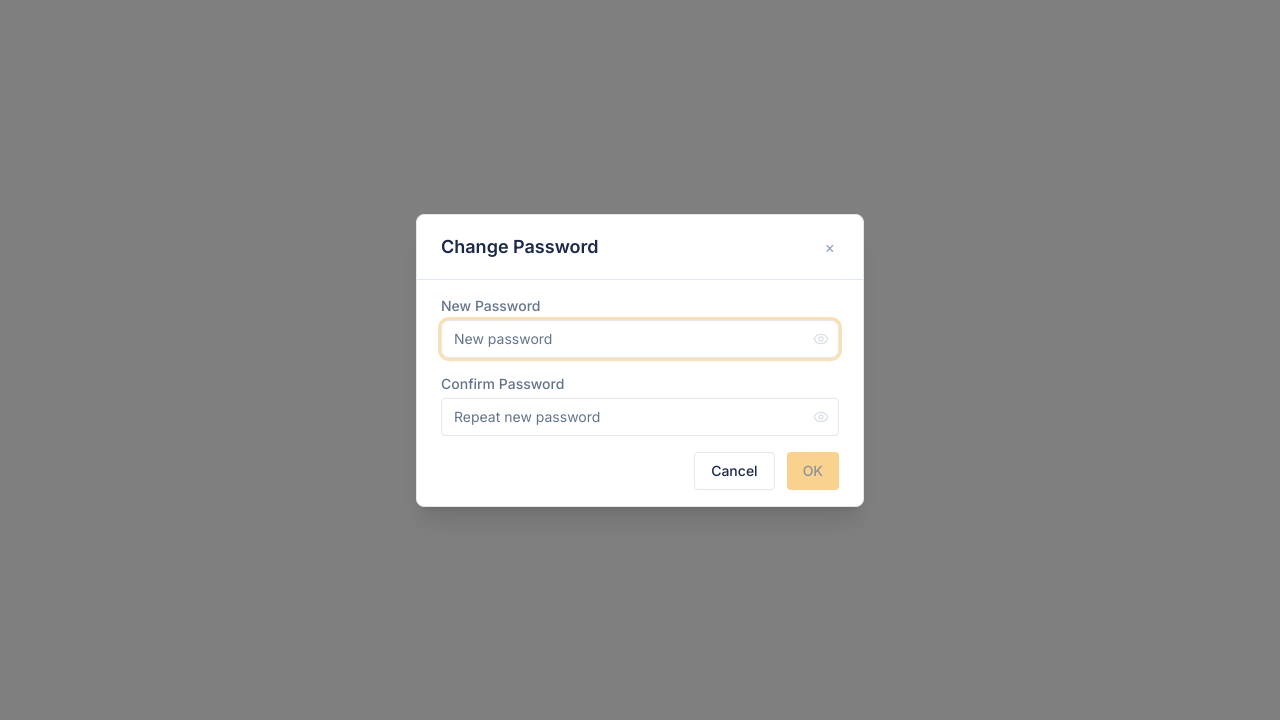
Test case: TopBarChangePasswordModal › sends matching passwords, shows "Password updated", and closes
This screenshot has width=1280, height=720.
Type "s3cret!" into the password field labelled "New Password". click: [640, 338]
box: [441,320,839,358]
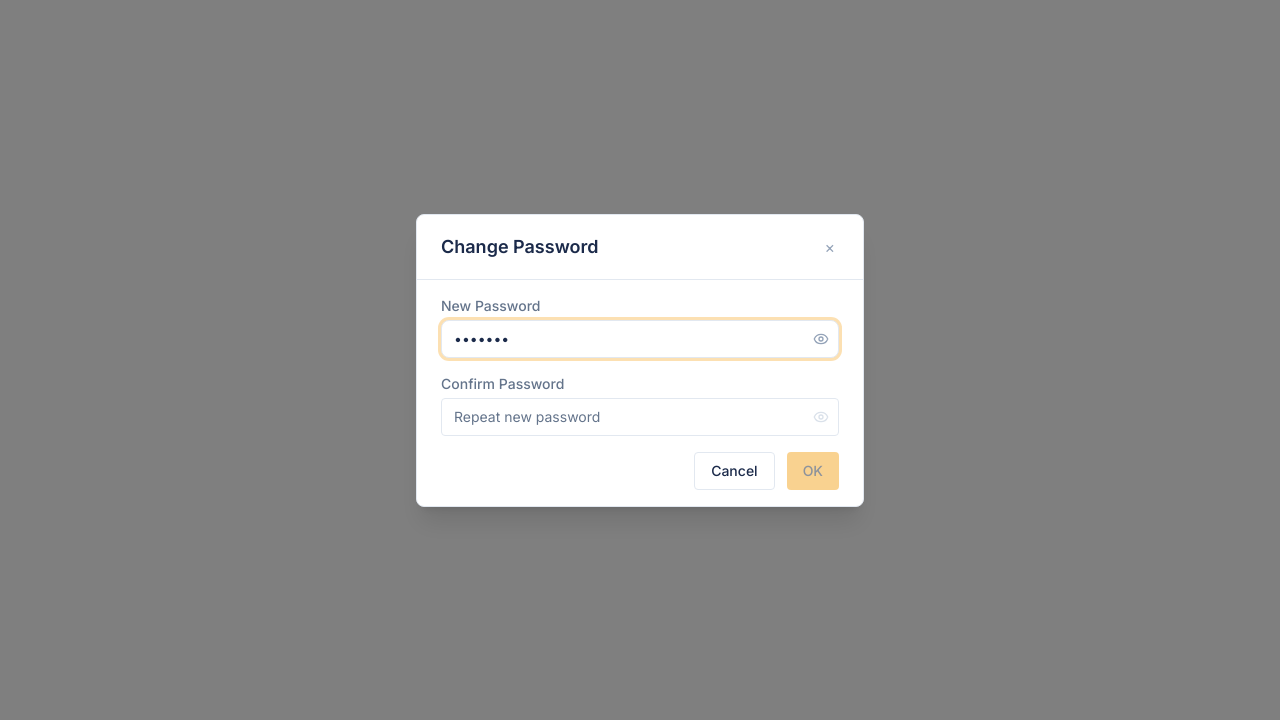
Type "s3cret!" into the password field labelled "Confirm Password". click: [640, 416]
box: [441,398,839,436]
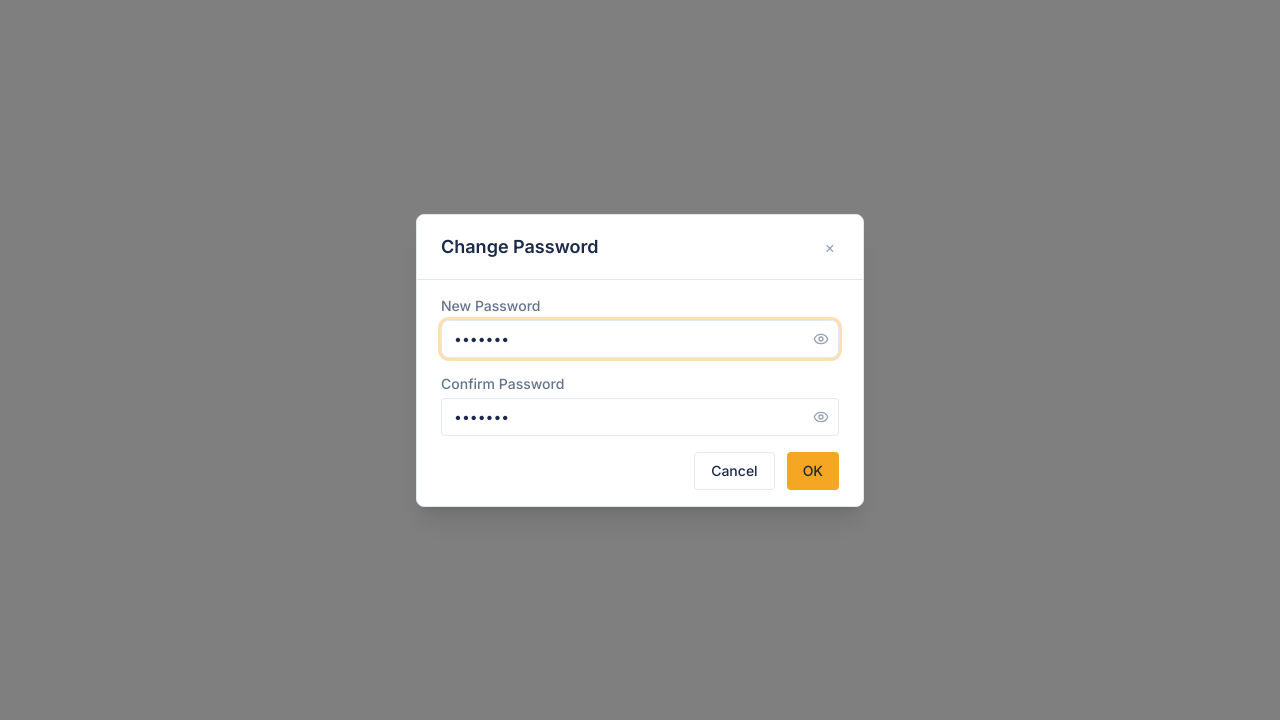
Click the button "OK". click: [813, 470]
box: [787,452,839,490]
Wait 1000 ms
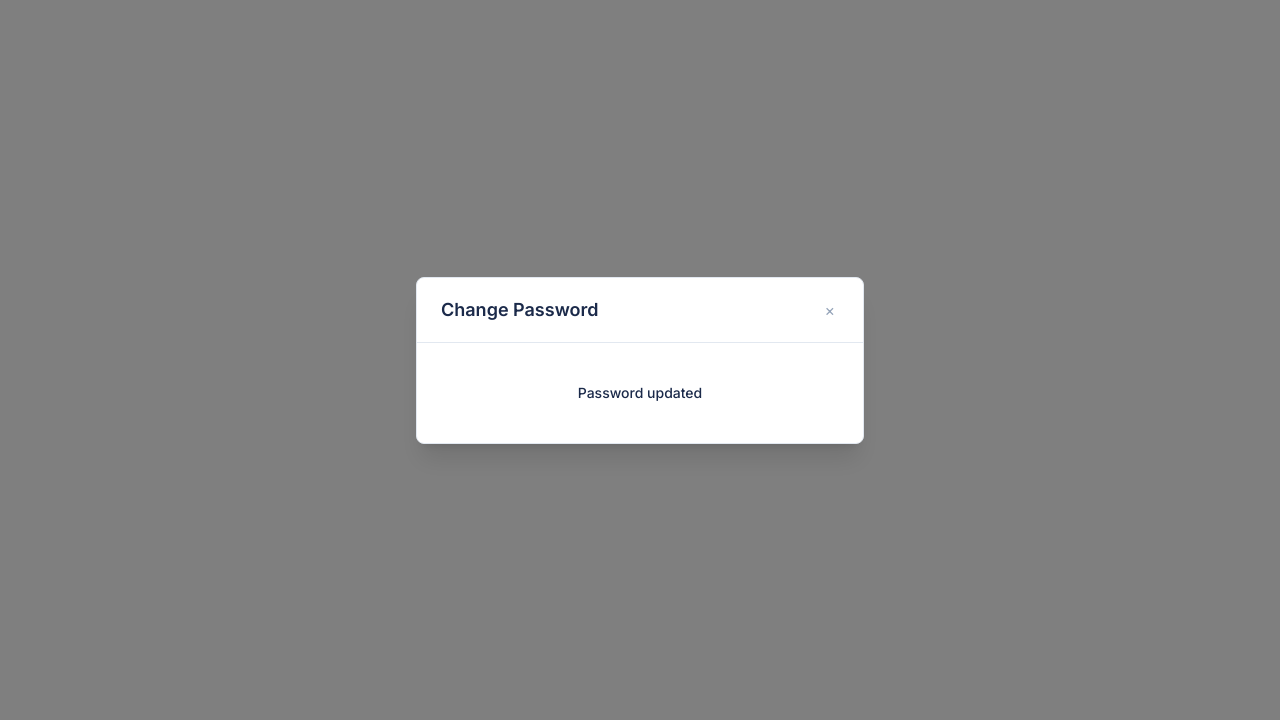
Expected: the text "Password updated" is shown, [578,384,702,400]
